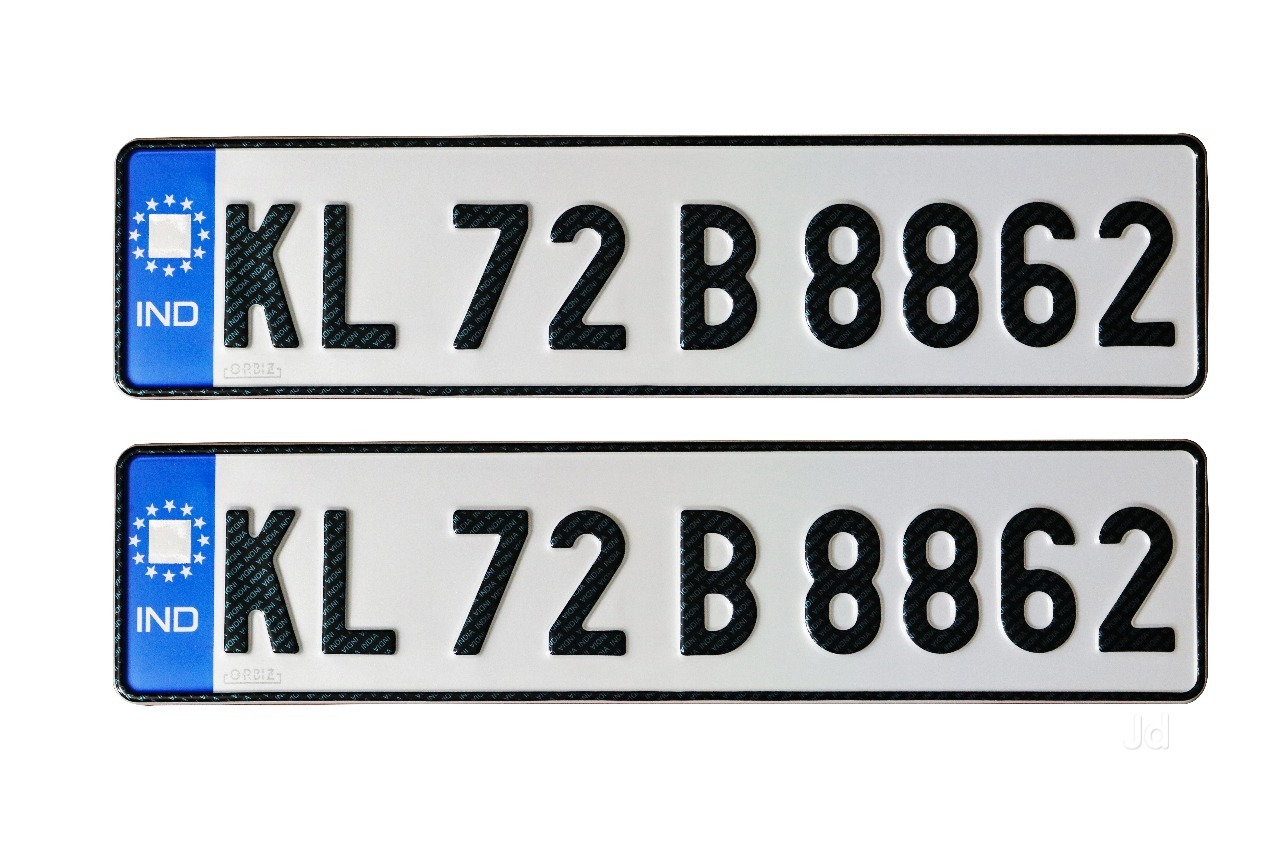number_plate: (113, 436, 1212, 708), (113, 133, 1214, 403)
